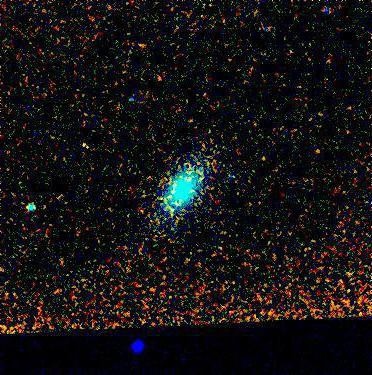star: (73, 130, 103, 160)
